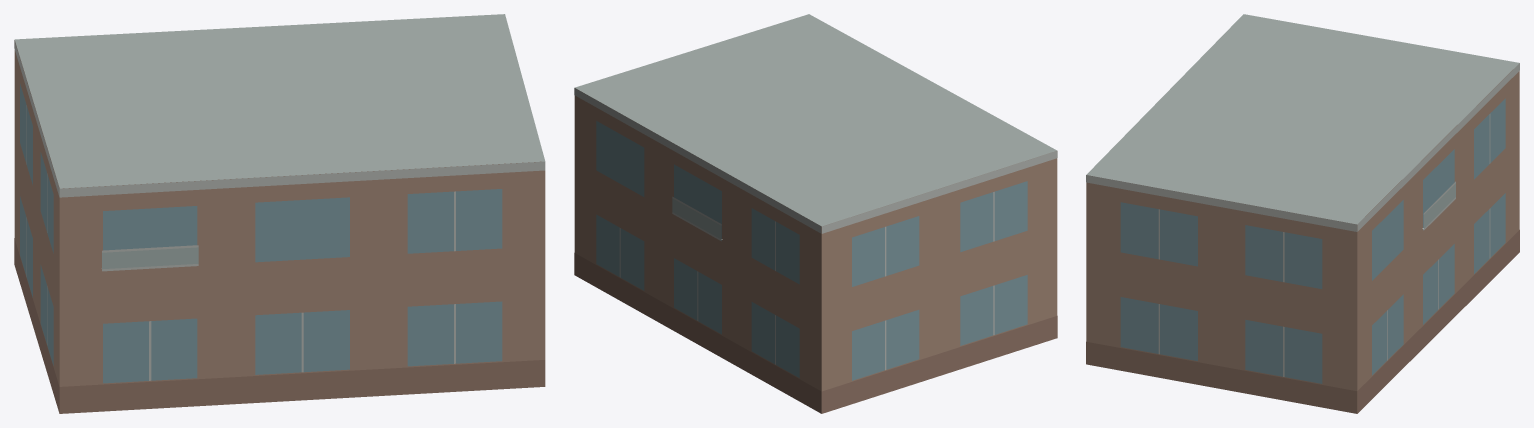
The model's file is survey-upis-32567320.glb.
3 views of the same model, side by side, from view 1: azimuth 30°, elevation 25°; view 2: azimuth 150°, elevation 25°; view 3: azimuth 270°, elevation 25° (orthographic). The views are drawn at different scales.
Parts seen in each view (by area): view 1: survey-upis-32567320.tmp; view 2: survey-upis-32567320.tmp; view 3: survey-upis-32567320.tmp.
Part boxes in pixels (x1=…): survey-upis-32567320.tmp: x1=14, y1=14, x2=545, y2=413; survey-upis-32567320.tmp: x1=574, y1=14, x2=1057, y2=413; survey-upis-32567320.tmp: x1=1086, y1=14, x2=1519, y2=413.
Bounding box in the file's own units: 14.55 × 6.1 × 12.67.
